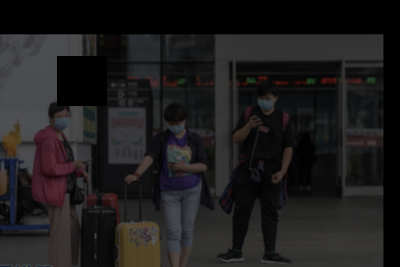with_mask: (52, 108, 70, 131), (256, 94, 275, 113), (166, 118, 182, 136)
